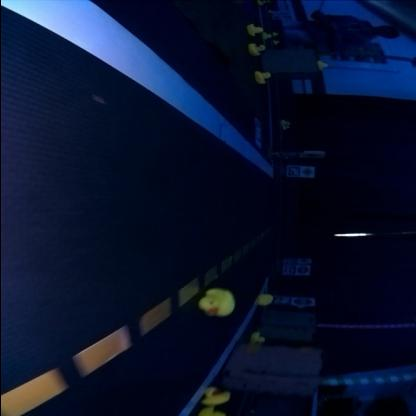Duckie: (198, 288, 234, 318), (202, 387, 230, 405), (246, 24, 264, 37), (248, 44, 266, 56), (256, 71, 270, 84), (251, 333, 265, 344), (258, 295, 272, 304), (262, 32, 272, 40), (320, 62, 327, 70), (281, 120, 289, 126)
Intersection sign: (302, 168, 312, 177)
QR code: (254, 119, 262, 150), (284, 267, 296, 275), (288, 167, 298, 176)
Stop sign: (293, 299, 313, 307), (298, 268, 308, 275)
